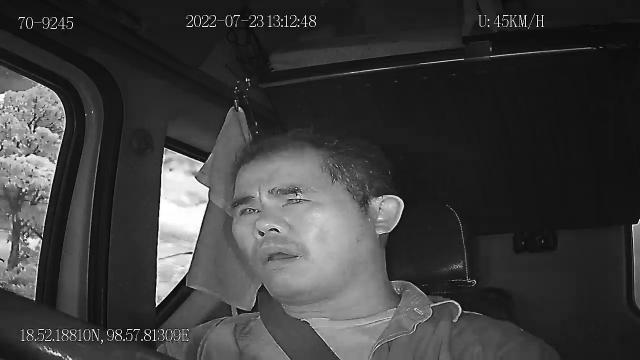SafeDriving: (274, 185, 318, 212), (232, 198, 266, 223)
Seatbelt: (256, 288, 344, 360)
